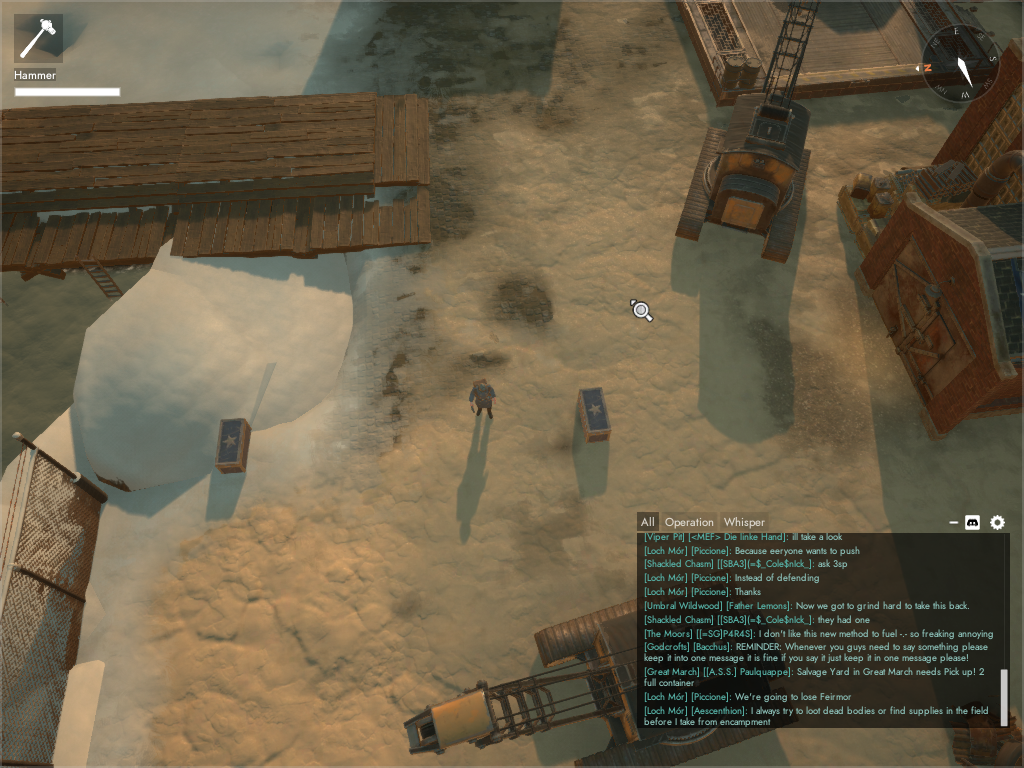crane: (403, 569, 800, 768), (675, 1, 822, 264)
player: (468, 379, 496, 420)
storage_box: (574, 384, 616, 445), (213, 415, 251, 474)
